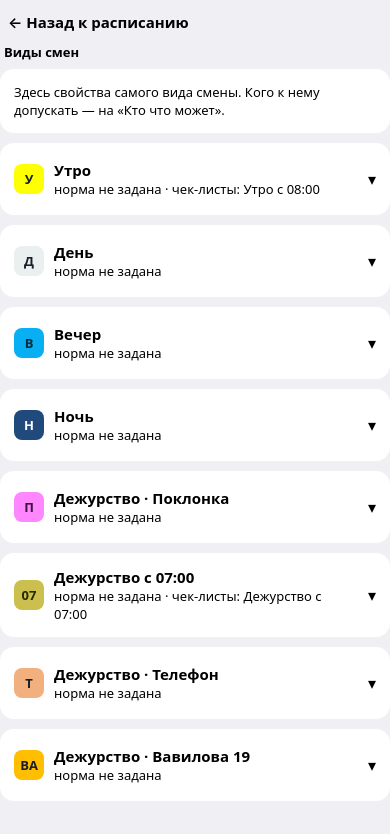
Test: «Очередь идёт» — выбранная единица остаётся выбранной › сохранённая единица переживает закрытие и открытие карточки
Click the button "У Утро норма не задана · чек-листы: Утро с 08:00 ▾".
click(195, 179)  # box [14,157,376,201]
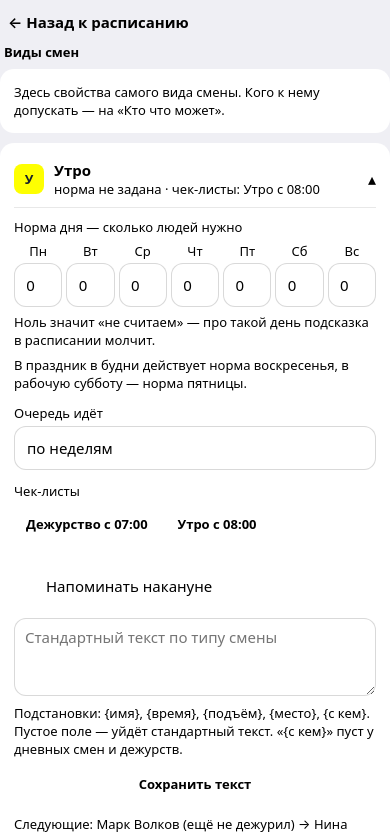
Select "по неделям" in the dropdown labelled "Очередь идёт" at point(195, 448), box [14,426,376,470]
Click the button "У Утро норма не задана · чек-листы: Утро с 08:00 ▴".
click(195, 179)  # box [14,157,376,201]
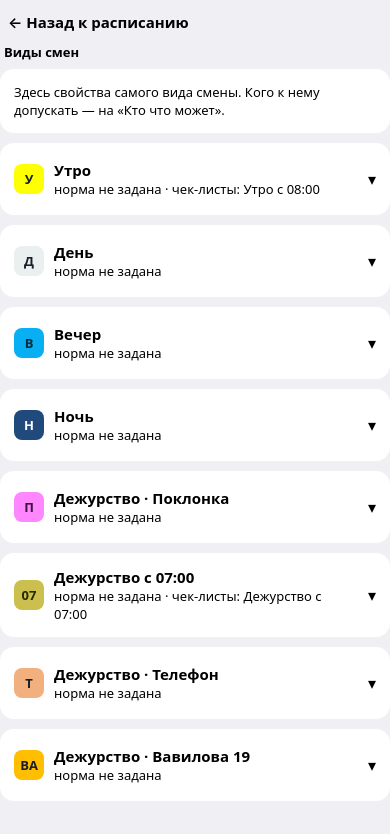
Click the button "У Утро норма не задана · чек-листы: Утро с 08:00 ▾".
click(195, 179)  # box [14,157,376,201]
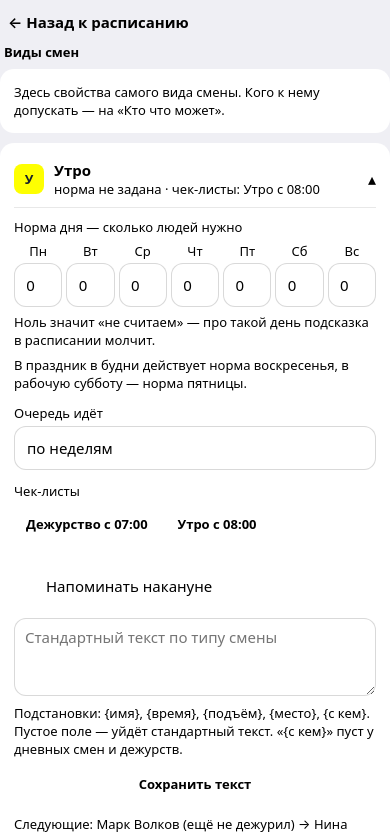
Check: the dropdown labelled "Очередь идёт" shows "по неделям", box [14,426,376,470]
